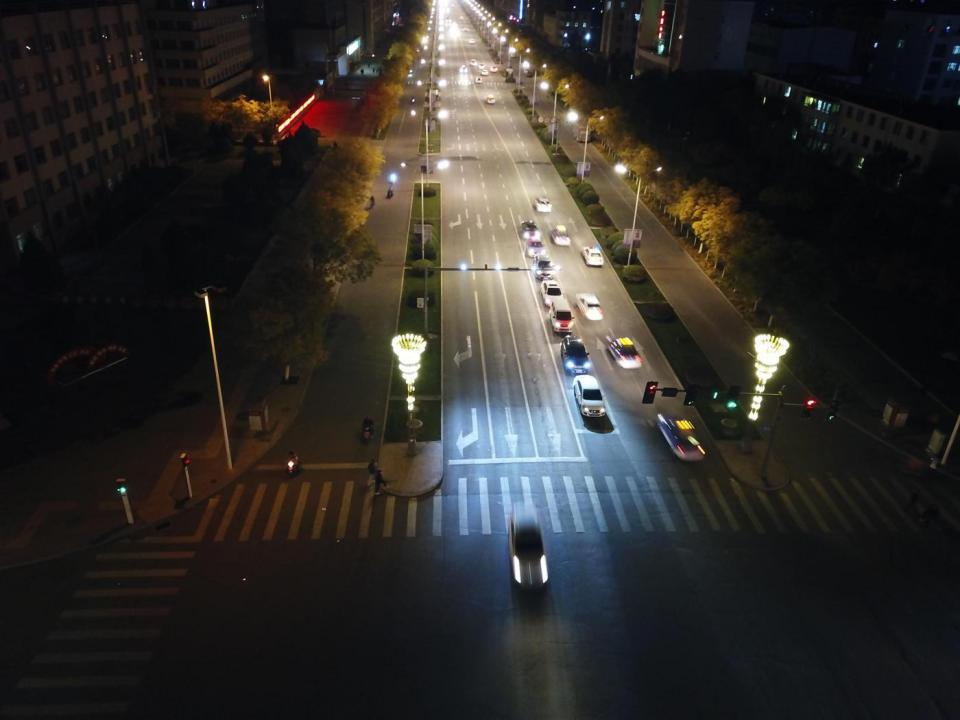bus: (570, 119, 590, 142)
car: (508, 505, 549, 588), (659, 412, 707, 462), (573, 373, 606, 418), (560, 337, 590, 375), (611, 336, 642, 370), (575, 291, 603, 319), (541, 278, 562, 306), (549, 223, 570, 245), (584, 246, 604, 269), (525, 237, 545, 257), (534, 195, 551, 212), (522, 222, 540, 238), (486, 95, 495, 104), (460, 64, 468, 74), (362, 52, 374, 58), (490, 65, 498, 72), (482, 68, 489, 76), (406, 66, 414, 73), (476, 77, 482, 83), (479, 62, 485, 68), (526, 71, 532, 77), (500, 38, 506, 44), (509, 49, 516, 54), (470, 60, 476, 65), (469, 38, 475, 43), (446, 16, 451, 22), (413, 47, 419, 52), (524, 69, 530, 74), (495, 34, 502, 38), (452, 22, 458, 26), (464, 27, 469, 31), (460, 16, 464, 21), (510, 54, 515, 58), (500, 41, 505, 45), (487, 24, 492, 27), (451, 3, 455, 6), (498, 37, 502, 40), (479, 16, 483, 18)
van: (549, 297, 574, 332), (533, 254, 555, 280)
